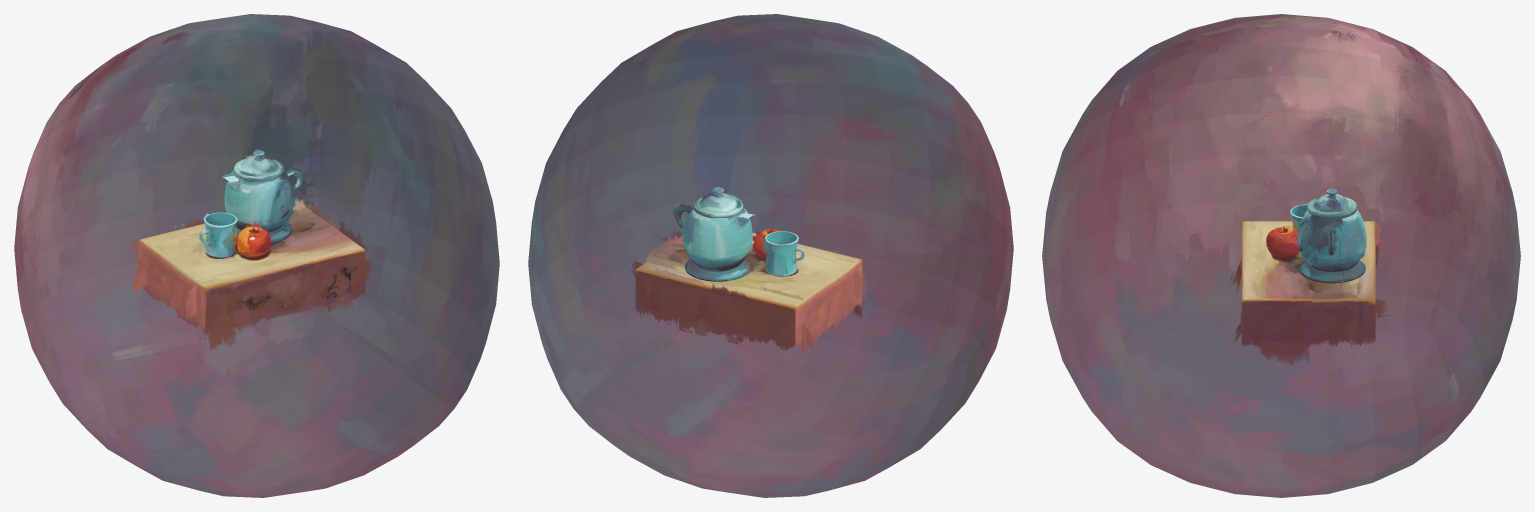
Rendered from fiesta_tea-transformed-transformed.glb.
3 views of the same model, side by side, from view 1: azimuth 30°, elevation 25°; view 2: azimuth 150°, elevation 25°; view 3: azimuth 270°, elevation 25° (orthographic).
Parts seen in each view (by area): view 1: Object_28, Object_30, Object_14, Object_26; view 2: Object_28, Object_30, Object_14, Object_26; view 3: Object_28, Object_30, Object_14, Object_26.
Part boxes in pixels (box(x1,y1,x2,y2)): Object_28: box(14, 14, 499, 497); Object_30: box(138, 201, 365, 334); Object_14: box(200, 150, 302, 258); Object_26: box(130, 149, 371, 351); Object_28: box(528, 14, 1013, 497); Object_30: box(635, 229, 862, 352); Object_14: box(675, 187, 804, 281); Object_26: box(631, 190, 867, 358); Object_28: box(1042, 14, 1520, 497); Object_30: box(1241, 221, 1375, 348); Object_14: box(1266, 188, 1366, 283); Object_26: box(1230, 190, 1390, 365).
Size of the model in its own units: 11.73 by 11.73 by 11.73.
Materials: 4 (4 with a texture image).
